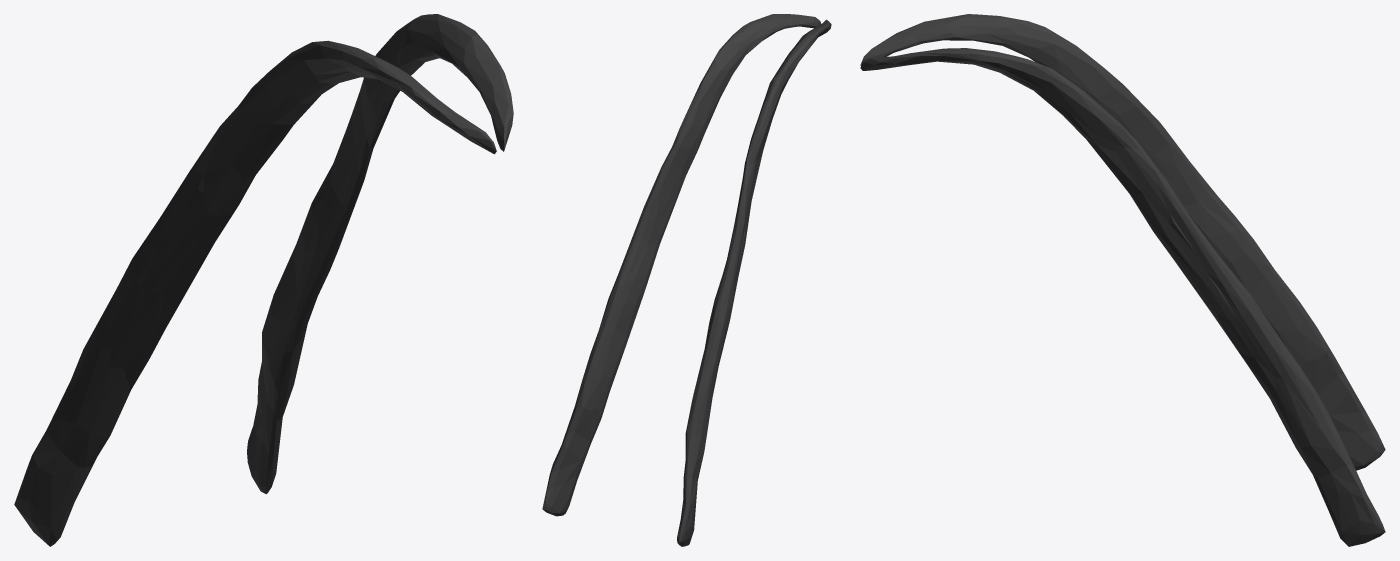
The model's file is m_omohyoideus.glb.
3 renders of one model, left to right at view 1: azimuth 30°, elevation 25°; view 2: azimuth 150°, elevation 25°; view 3: azimuth 270°, elevation 25°, orthographic. The views are drawn at different scales.
Visible parts, largest first — view 1: m_omohyoideus; view 2: m_omohyoideus; view 3: m_omohyoideus.
Boxes of the visible parts, bbox=[...] form: m_omohyoideus: bbox=[14, 14, 513, 546]; m_omohyoideus: bbox=[542, 14, 831, 546]; m_omohyoideus: bbox=[860, 14, 1385, 546].
Size of the model in its own units: 0.00294 by 0.00778 by 0.00776.
1 material, 1 textured.
